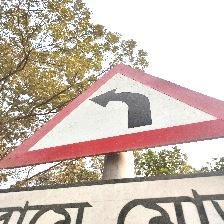Left-Turn: (0, 45, 224, 179)
